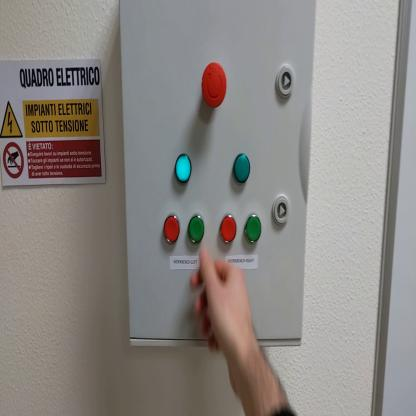hand: (191, 251, 257, 366)
left green button: (189, 215, 207, 244)
left red button: (165, 217, 180, 246)
right green button: (247, 214, 262, 244)
right red button: (221, 216, 238, 246)
